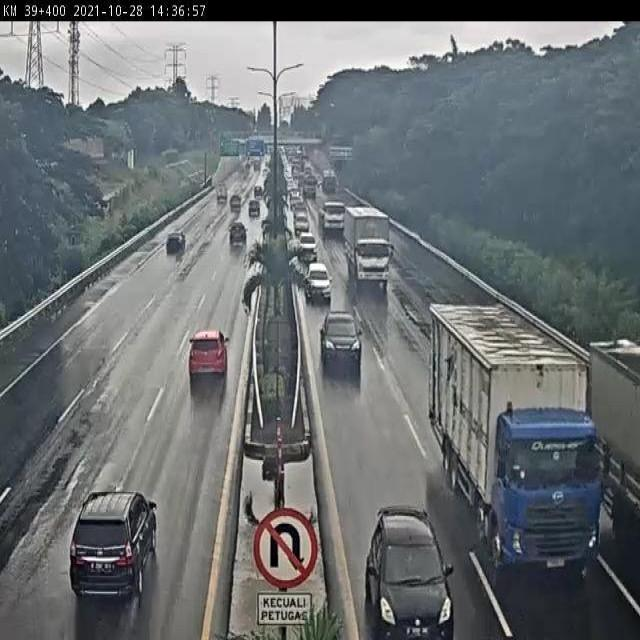big truck: (476, 361, 589, 555), (348, 205, 388, 296), (320, 200, 342, 227)
car: (382, 508, 462, 628), (57, 483, 145, 569), (181, 320, 231, 400), (324, 309, 356, 382), (311, 250, 330, 302), (157, 237, 181, 267), (227, 230, 247, 258), (300, 232, 315, 249)
